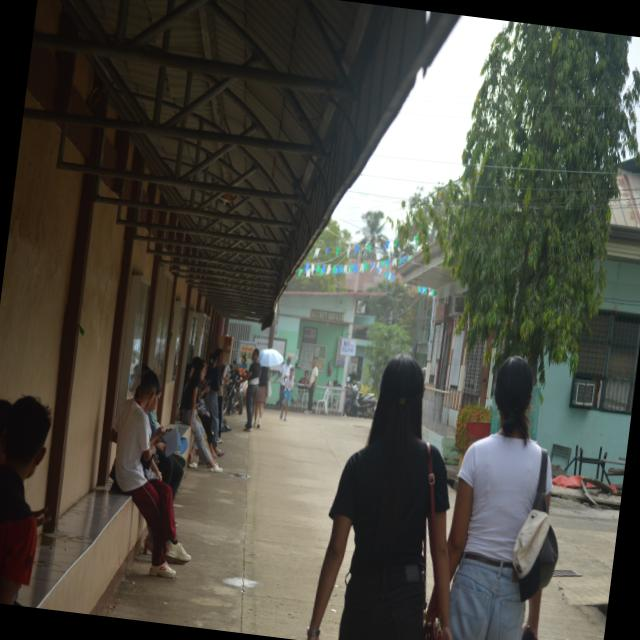person: (308, 355, 430, 639), (448, 356, 542, 639), (111, 372, 190, 577), (0, 396, 51, 604), (242, 349, 261, 432), (253, 367, 269, 428), (274, 357, 292, 406), (280, 367, 294, 421), (0, 400, 11, 465), (305, 359, 318, 413)
